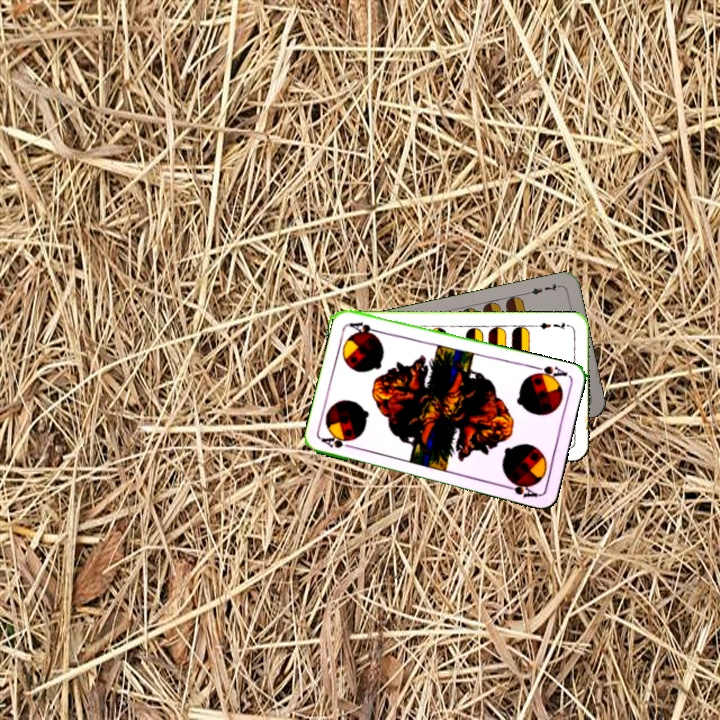E7: (523, 280, 563, 297), (532, 318, 572, 332)
SA: (529, 362, 570, 384), (318, 431, 358, 451)
